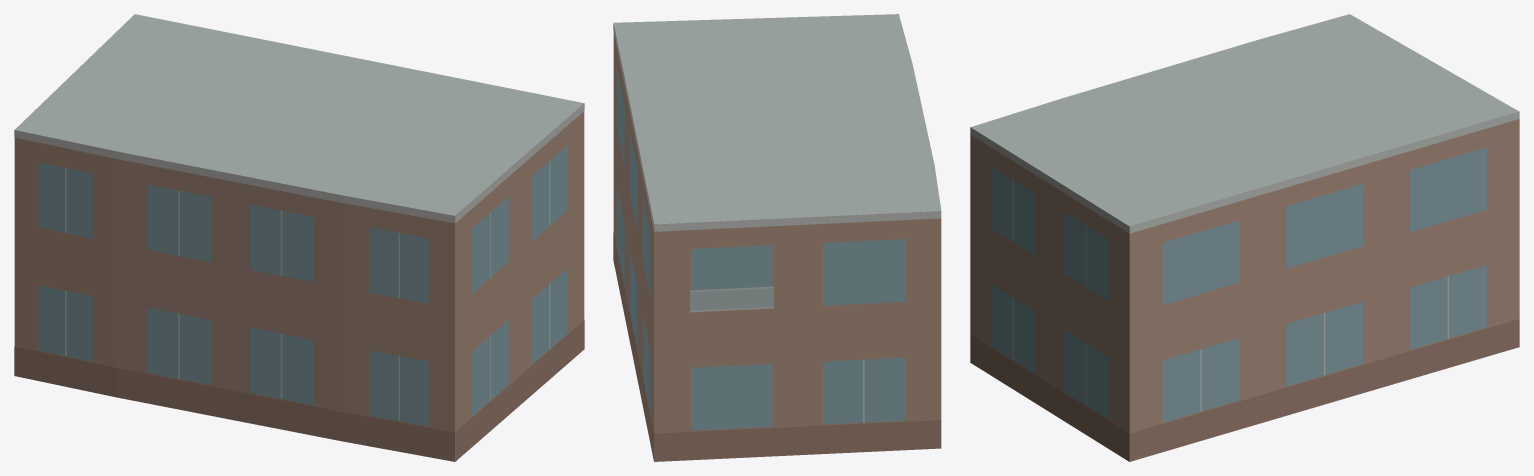
The model's file is survey-upis-32639791.glb.
3 views of the same model, side by side, from view 1: azimuth 30°, elevation 25°; view 2: azimuth 150°, elevation 25°; view 3: azimuth 270°, elevation 25° (orthographic). The views are drawn at different scales.
Visible parts, largest first — view 1: survey-upis-32639791.tmp; view 2: survey-upis-32639791.tmp; view 3: survey-upis-32639791.tmp.
Boxes of the visible parts, box(x1,y1,x2,y2) form: survey-upis-32639791.tmp: box(14, 14, 584, 461); survey-upis-32639791.tmp: box(613, 14, 941, 461); survey-upis-32639791.tmp: box(970, 14, 1519, 461).
Bounding box in the file's own units: 15.3 × 7.9 × 16.71.
